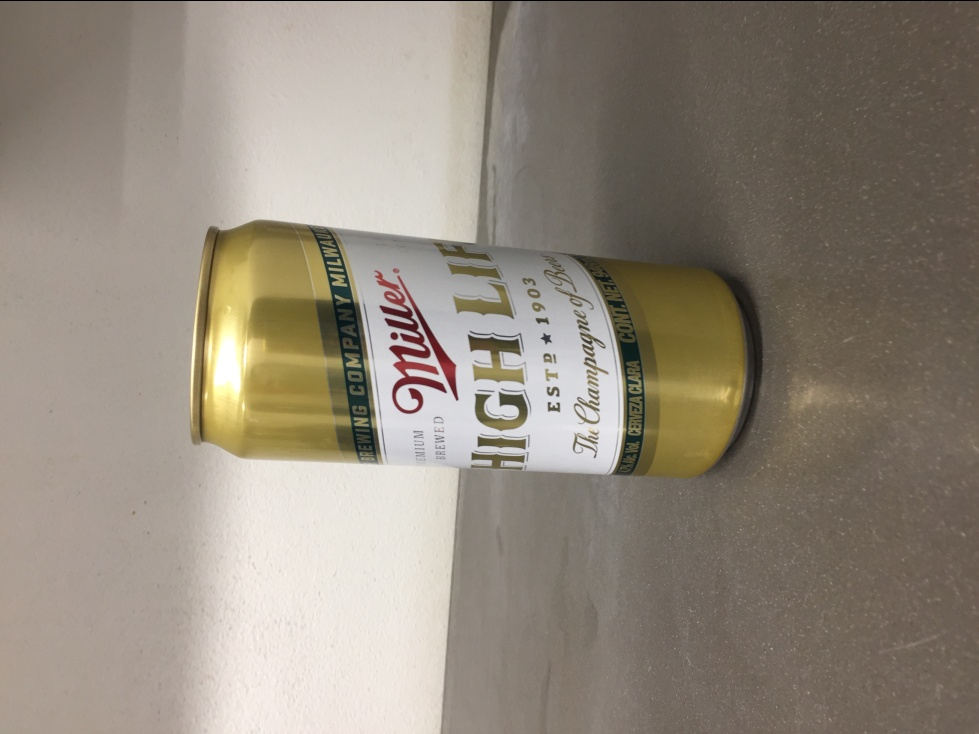miller: (189, 213, 755, 484)
